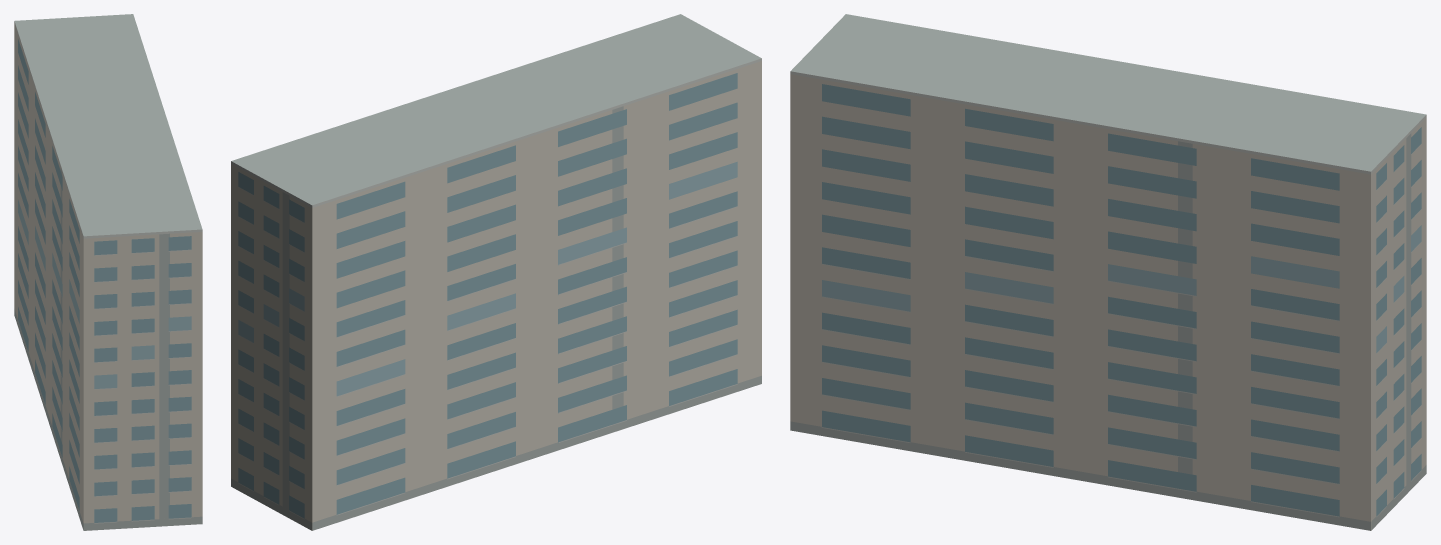
File: residential-d66b993b-b891-467e-b939-c3c9cce09d22.glb
3 renders of one model, left to right at view 1: azimuth 30°, elevation 25°; view 2: azimuth 150°, elevation 25°; view 3: azimuth 270°, elevation 25°, orthographic. The views are drawn at different scales.
Parts seen in each view (by area): view 1: residential-d66b993b-b891-467e-b939-c3c9cce09d22.tmp; view 2: residential-d66b993b-b891-467e-b939-c3c9cce09d22.tmp; view 3: residential-d66b993b-b891-467e-b939-c3c9cce09d22.tmp.
Boxes of the visible parts, x1,y1,x2,y2 form: residential-d66b993b-b891-467e-b939-c3c9cce09d22.tmp: [14, 14, 202, 530]; residential-d66b993b-b891-467e-b939-c3c9cce09d22.tmp: [231, 14, 761, 530]; residential-d66b993b-b891-467e-b939-c3c9cce09d22.tmp: [790, 14, 1426, 530].
Bounding box in the file's own units: 28.25 × 30 × 48.16.
